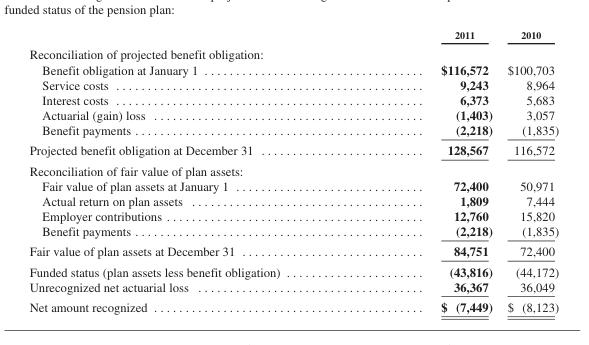table: (28, 28, 558, 313)
table column: (28, 28, 359, 313), (359, 28, 499, 313), (499, 28, 558, 313)
table column header: (28, 28, 558, 43)
table projected row header: (28, 43, 558, 61), (28, 160, 558, 177)
table row: (28, 139, 558, 160), (28, 240, 558, 261), (28, 43, 558, 61), (28, 278, 558, 296), (28, 122, 558, 139), (28, 160, 558, 177), (28, 223, 558, 240), (28, 261, 558, 278), (28, 296, 558, 313), (28, 91, 558, 107), (28, 192, 558, 208), (28, 28, 558, 43), (28, 61, 558, 76), (28, 76, 558, 91), (28, 107, 558, 122), (28, 177, 558, 192), (28, 208, 558, 223)
